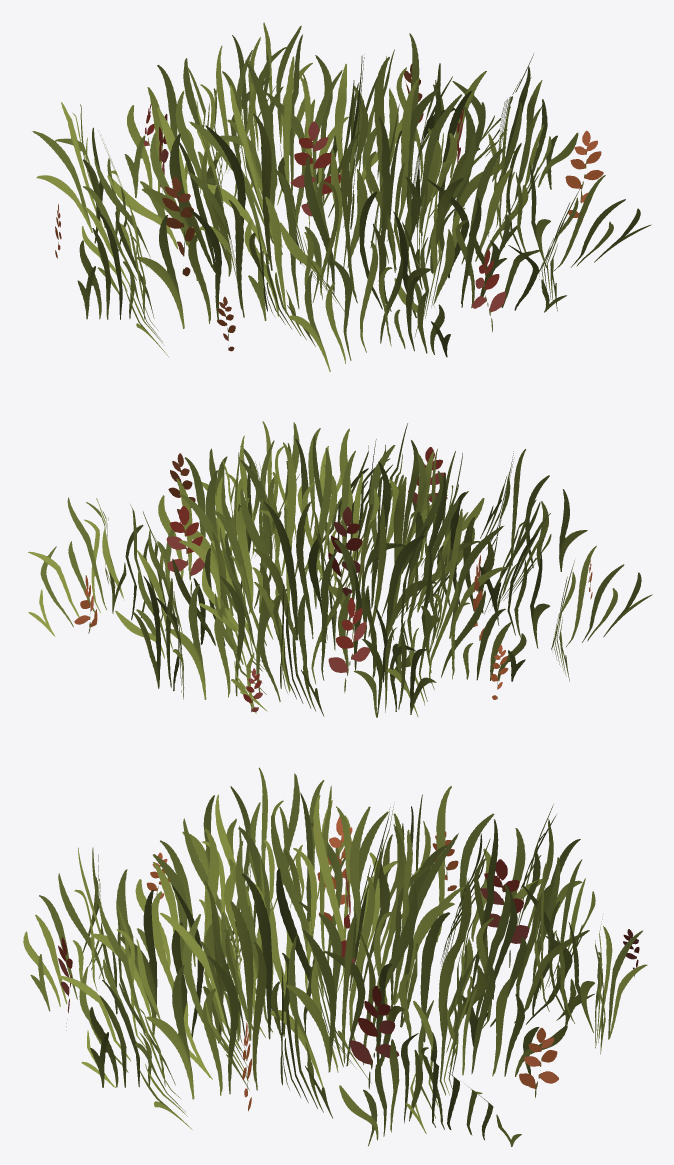
Rendered from Forest_Grass_4.fbx.
The picture shows the model from 3 angles, top to bottom: view 1: azimuth 30°, elevation 25°; view 2: azimuth 150°, elevation 25°; view 3: azimuth 270°, elevation 25°; orthographic projection. The views are drawn at different scales.
Visible parts, largest first — view 1: Forest_Grass_4; view 2: Forest_Grass_4; view 3: Forest_Grass_4.
Boxes of the visible parts, <box> form: Forest_Grass_4: <box>32,22,651,371</box>; Forest_Grass_4: <box>28,421,652,717</box>; Forest_Grass_4: <box>23,767,647,1146</box>.
Size of the model in its own units: 162 by 56.99 by 154.
1 material, 1 textured.
